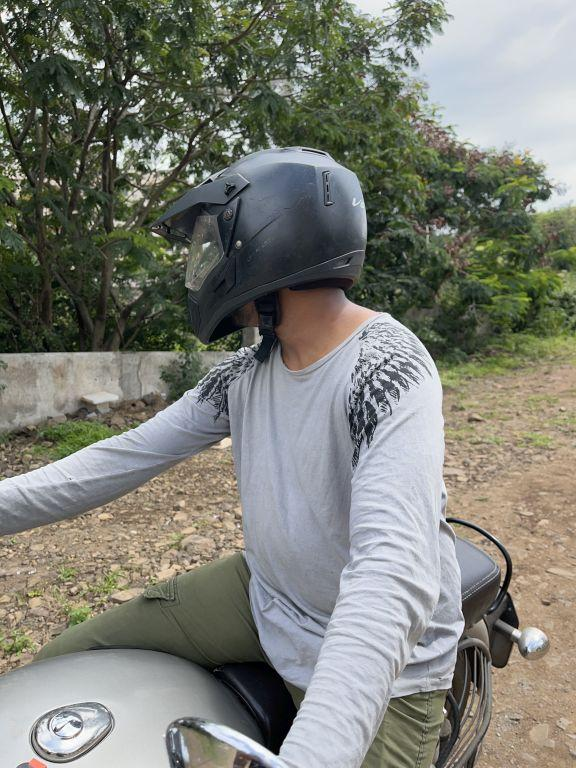helmet: (149, 134, 376, 364)
